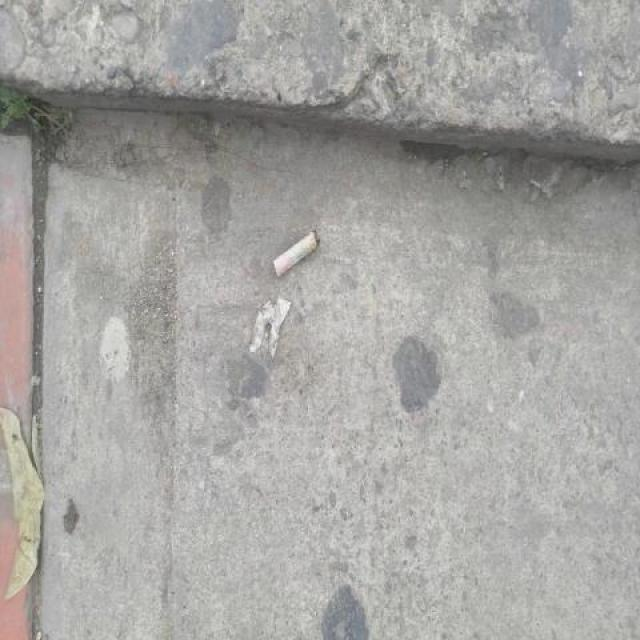non-organic waste: (269, 224, 323, 284)
